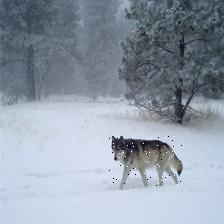WOLF: (109, 137, 183, 188)
